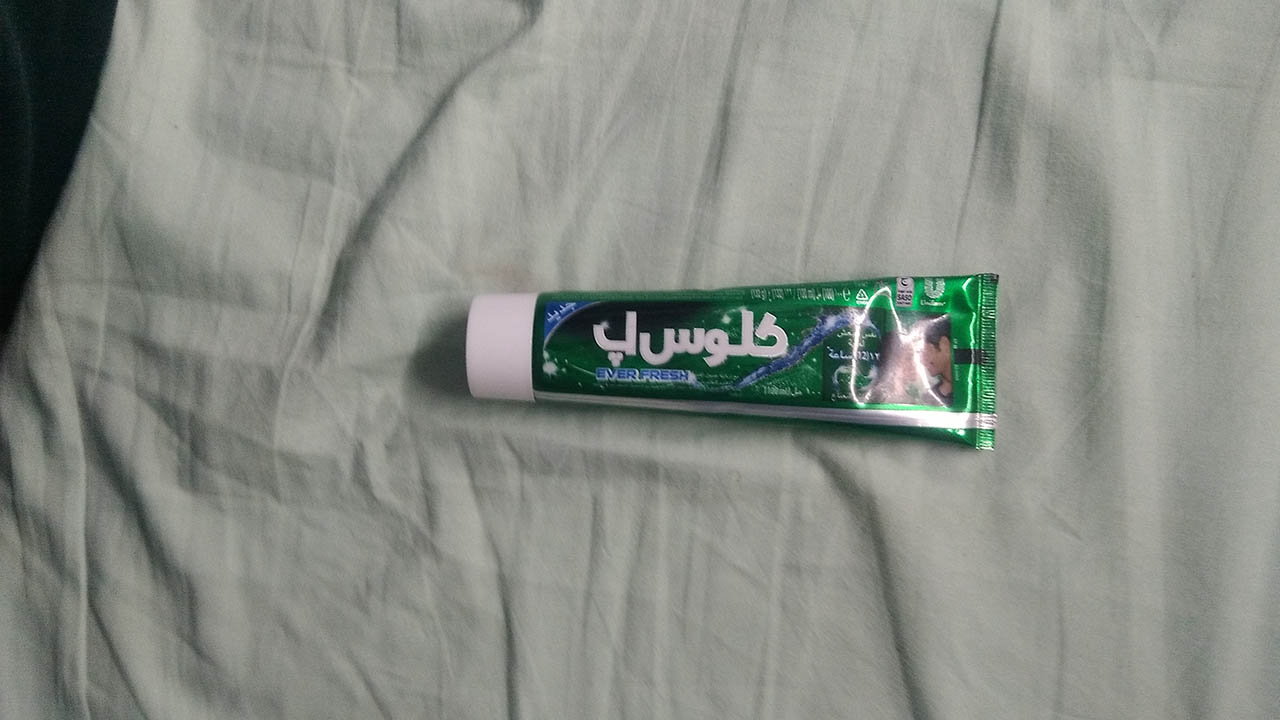Toothpaste-Closeup 3.04$: (460, 258, 1027, 472)
